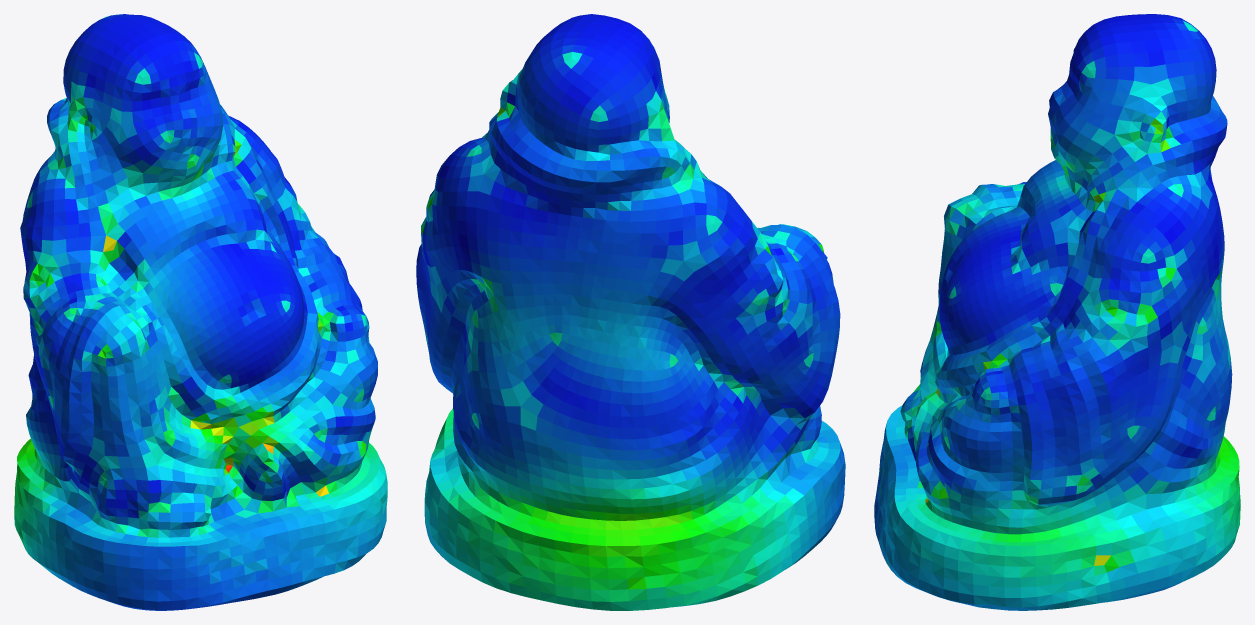
The model's file is buddha_opt_quality.obj.
The picture shows the model from 3 angles, left to right: view 1: azimuth 30°, elevation 25°; view 2: azimuth 150°, elevation 25°; view 3: azimuth 270°, elevation 25°; orthographic projection. The views are drawn at different scales.
Size of the model in its own units: 0.6998 by 0.9988 by 0.655.
